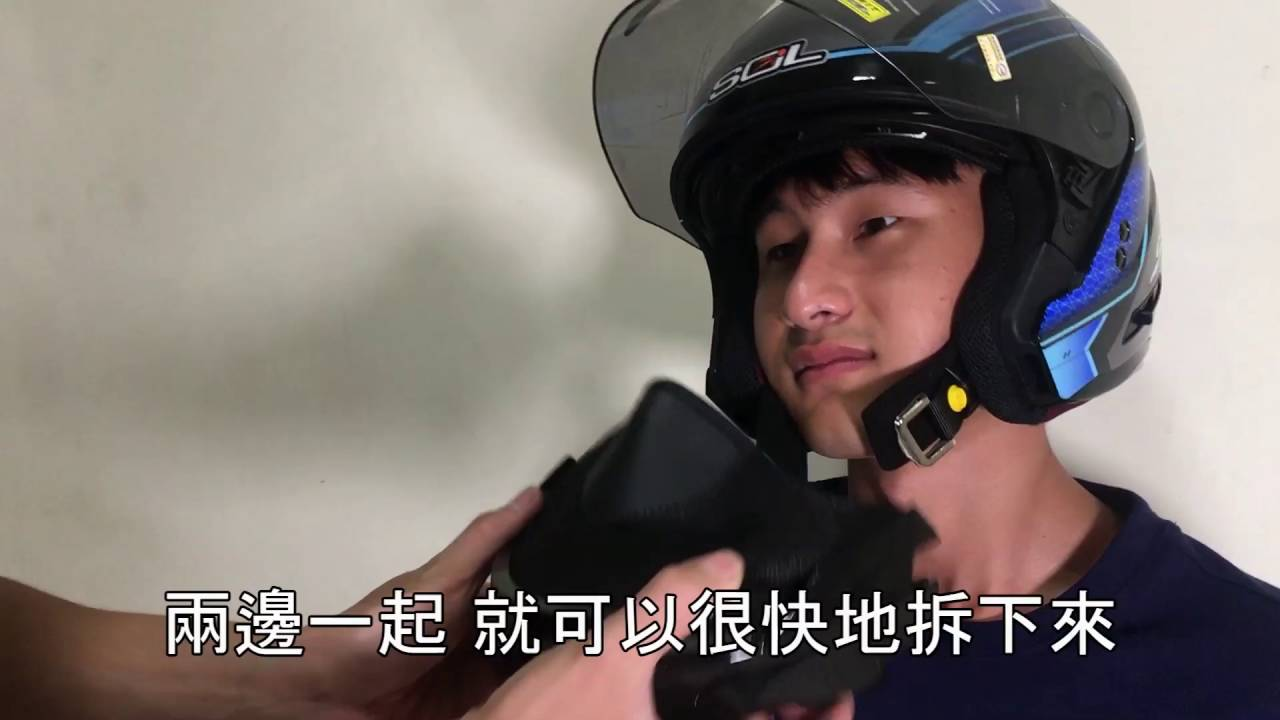helmet: (624, 9, 1176, 400)
